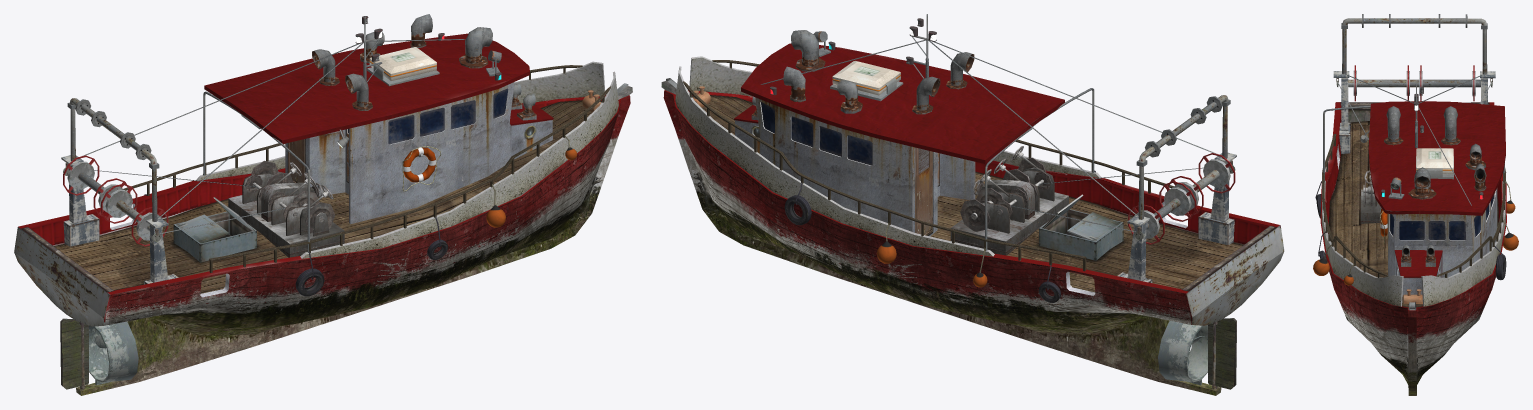
File: fishing_ship_2.glb
3 renders of one model, left to right at view 1: azimuth 30°, elevation 25°; view 2: azimuth 150°, elevation 25°; view 3: azimuth 270°, elevation 25°, orthographic. The views are drawn at different scales.
Parts seen in each view (by area): view 1: bateau_peche_bateau_peche_coque_0, bateau_peche_chalut_0, bateau_peche_machinerie_0, bateau_peche_helice_0, bateau_peche_aerations_0, bateau_peche_rembarde_0, bateau_peche_metal_0, bateau_peche_accessoires_0, bateau_peche_pneu_0, bateau_peche_bouee_sauvetage_0, lumieres; view 2: bateau_peche_bateau_peche_coque_0, bateau_peche_chalut_0, bateau_peche_machinerie_0, bateau_peche_helice_0, bateau_peche_aerations_0, bateau_peche_rembarde_0, bateau_peche_metal_0, bateau_peche_accessoires_0, bateau_peche_pneu_0, lumieres, bateau_peche_bouee_0; view 3: bateau_peche_bateau_peche_coque_0, bateau_peche_chalut_0, bateau_peche_aerations_0, bateau_peche_rembarde_0, bateau_peche_accessoires_0, bateau_peche_metal_0, bateau_peche_bouee_0, bateau_peche_machinerie_0, lumieres, bateau_peche_pneu_0, bateau_peche_bouee_sauvetage_0.
Part boxes in pixels (bbox=[...]): bateau_peche_bateau_peche_coque_0: bbox=[14, 33, 630, 395]; bateau_peche_chalut_0: bbox=[61, 98, 178, 284]; bateau_peche_machinerie_0: bbox=[228, 160, 344, 257]; bateau_peche_helice_0: bbox=[60, 318, 138, 389]; bateau_peche_aerations_0: bbox=[312, 14, 536, 120]; bateau_peche_rembarde_0: bbox=[123, 65, 611, 272]; bateau_peche_metal_0: bbox=[82, 16, 465, 252]; bateau_peche_accessoires_0: bbox=[367, 47, 632, 112]; bateau_peche_pneu_0: bbox=[144, 194, 447, 296]; bateau_peche_bouee_sauvetage_0: bbox=[402, 146, 441, 191]; lumieres: bbox=[241, 16, 501, 147]; bateau_peche_bateau_peche_coque_0: bbox=[663, 43, 1284, 395]; bateau_peche_chalut_0: bbox=[1117, 95, 1236, 283]; bateau_peche_machinerie_0: bbox=[950, 146, 1068, 255]; bateau_peche_helice_0: bbox=[1158, 318, 1236, 389]; bateau_peche_aerations_0: bbox=[751, 30, 974, 120]; bateau_peche_rembarde_0: bbox=[683, 60, 1173, 271]; bateau_peche_metal_0: bbox=[761, 14, 1217, 250]; bateau_peche_accessoires_0: bbox=[661, 61, 903, 107]; bateau_peche_pneu_0: bbox=[784, 170, 1095, 302]; lumieres: bbox=[770, 18, 1032, 141]; bateau_peche_bouee_0: bbox=[876, 223, 987, 287]; bateau_peche_bateau_peche_coque_0: bbox=[1320, 101, 1506, 395]; bateau_peche_chalut_0: bbox=[1333, 14, 1495, 153]; bateau_peche_aerations_0: bbox=[1384, 106, 1486, 266]; bateau_peche_rembarde_0: bbox=[1322, 134, 1505, 277]; bateau_peche_accessoires_0: bbox=[1403, 148, 1453, 310]; bateau_peche_metal_0: bbox=[1323, 73, 1504, 205]; bateau_peche_bouee_0: bbox=[1313, 181, 1518, 285]; bateau_peche_machinerie_0: bbox=[1360, 170, 1387, 223]; lumieres: bbox=[1360, 86, 1483, 199]; bateau_peche_pneu_0: bbox=[1315, 172, 1506, 280]; bateau_peche_bouee_sauvetage_0: bbox=[1377, 203, 1387, 243].
Bounding box in the file's own units: 1314 × 675 × 480.
Materials: 12 (12 with a texture image).
